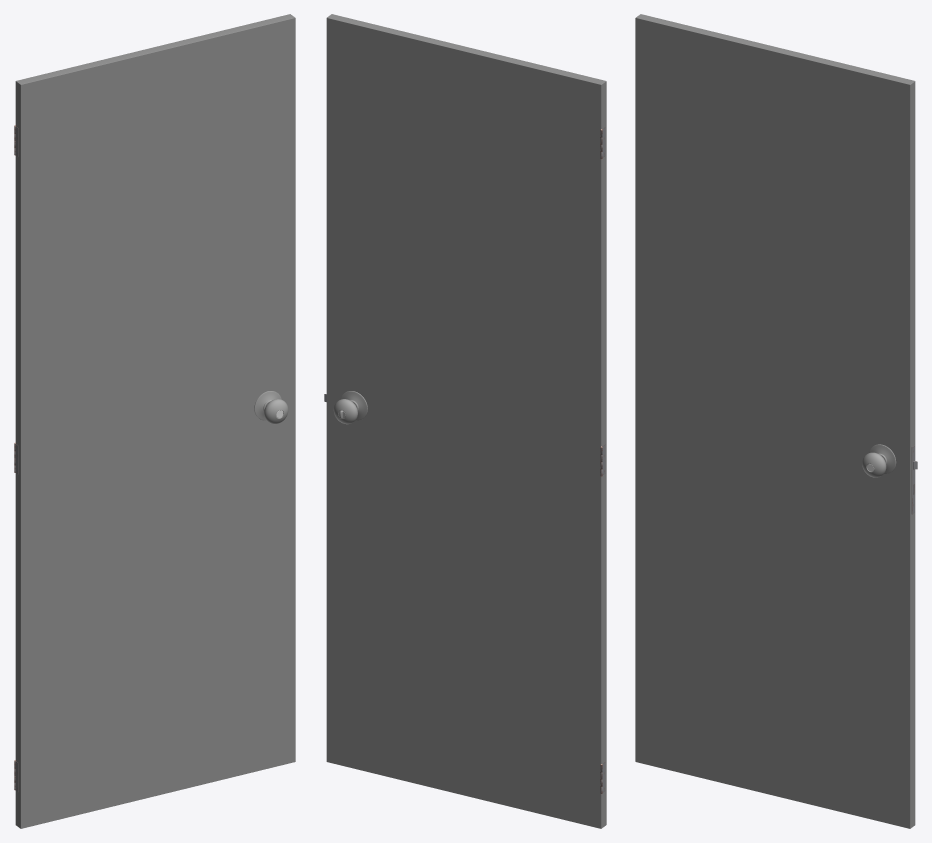
Rendered from daun pintu 1.fbx.
The picture shows the model from 3 angles, left to right: view 1: azimuth 30°, elevation 25°; view 2: azimuth 150°, elevation 25°; view 3: azimuth 330°, elevation 25°; orthographic projection.
Visible parts, largest first — view 1: Cylinder.037; view 2: Cylinder.037; view 3: Cylinder.037.
Part boxes in pixels (x1,y1,x2,y2): Cylinder.037: [14, 14, 295, 828]; Cylinder.037: [324, 14, 606, 828]; Cylinder.037: [635, 14, 917, 828].
Bounding box in the file's own units: 80.28 × 204 × 15.45.
